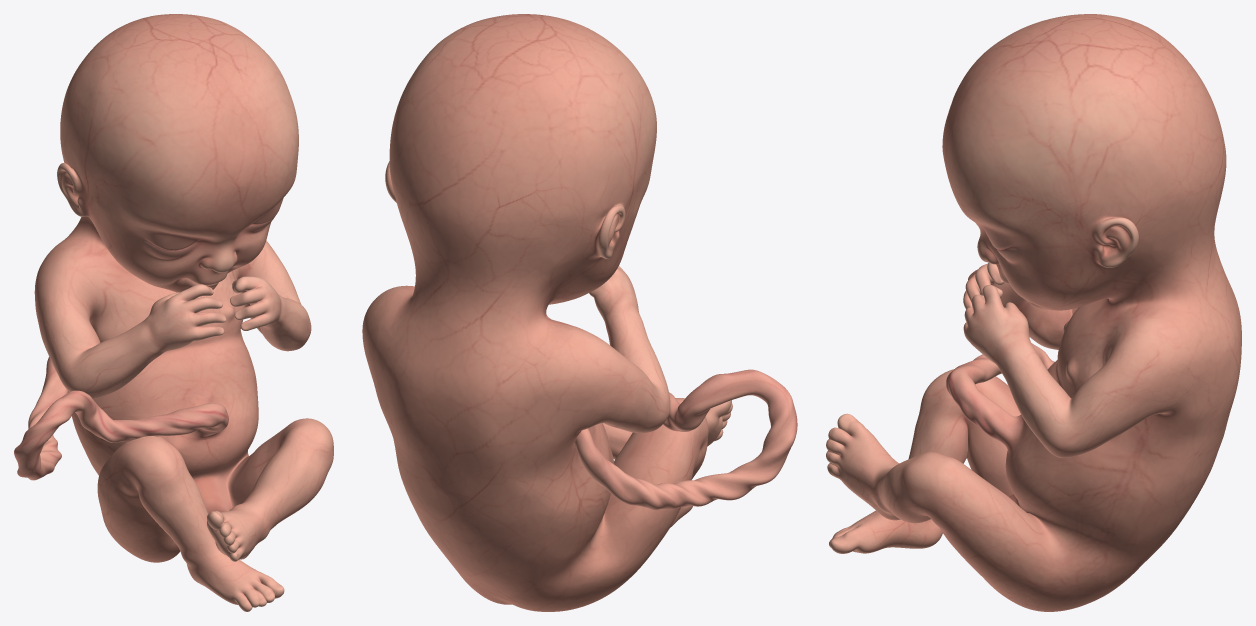
The model's file is semaine-15.glb.
The picture shows the model from 3 angles, left to right: view 1: azimuth 30°, elevation 25°; view 2: azimuth 150°, elevation 25°; view 3: azimuth 270°, elevation 25°; orthographic projection. The views are drawn at different scales.
Size of the model in its own units: 1.24 by 1.9 by 1.26.
Materials: 1 (1 with a texture image).
